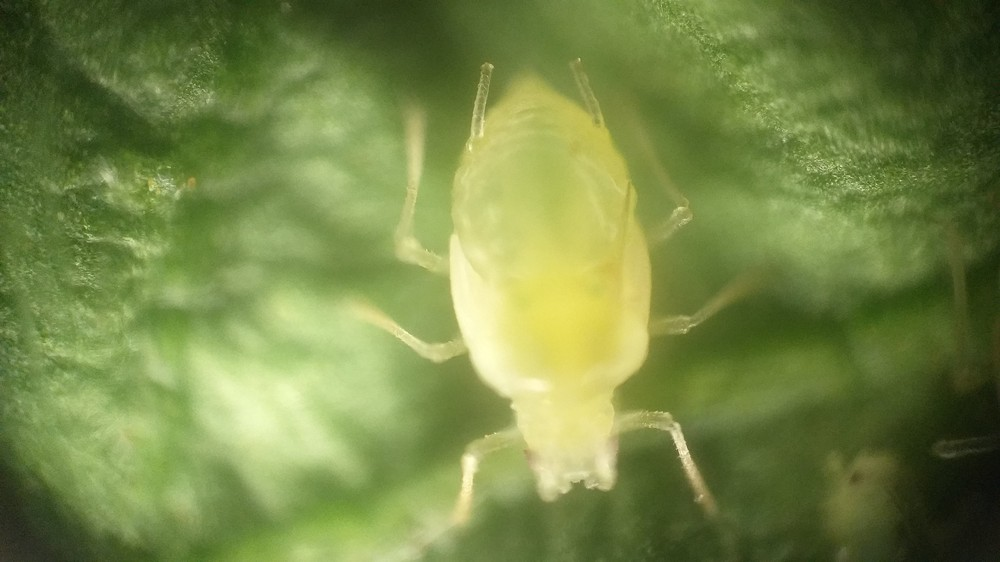Pulgon: (332, 48, 753, 548)
